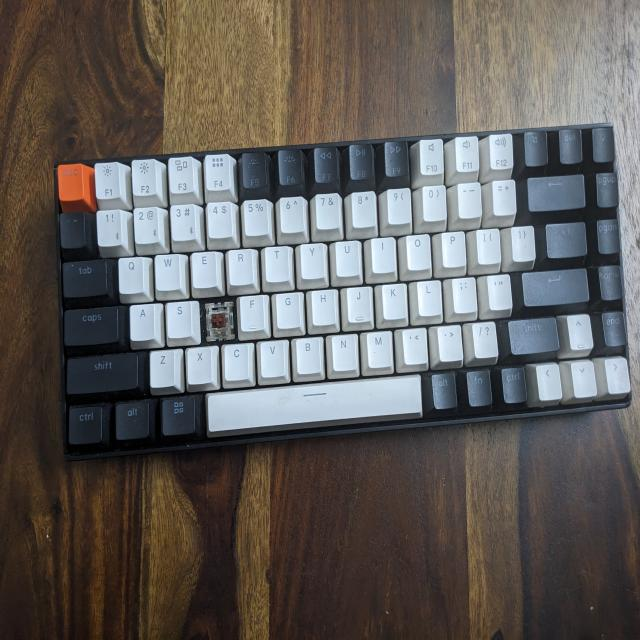C: (205, 300, 237, 343)
